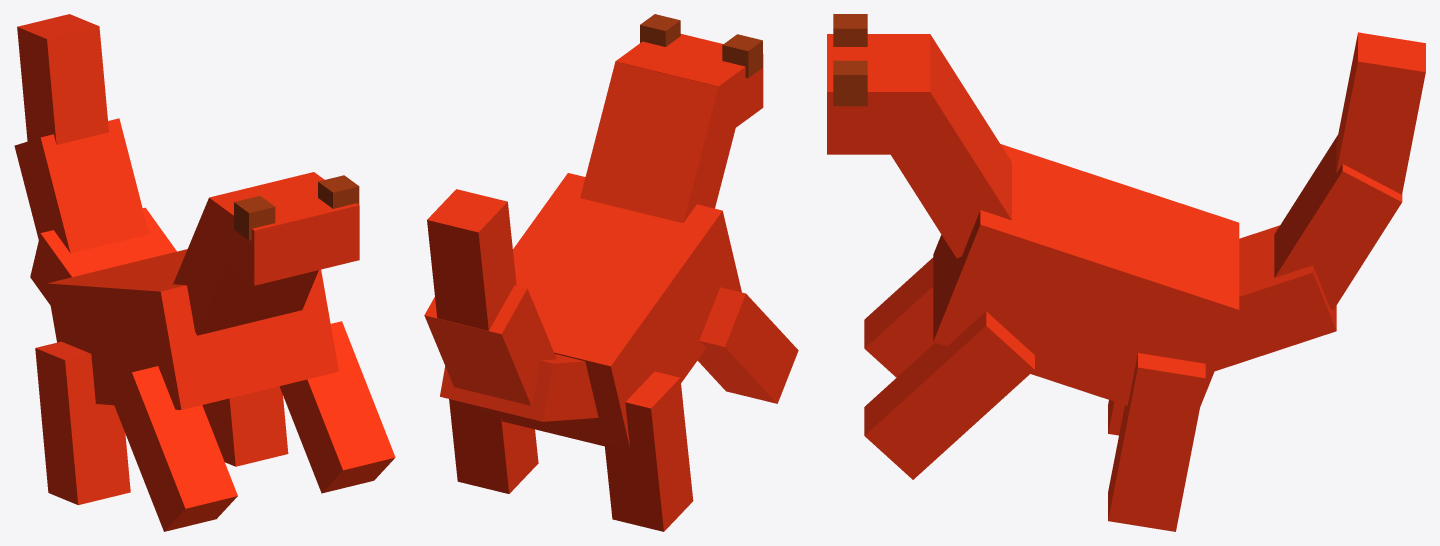
Rendered from FireLizard.fbx.
3 renders of one model, left to right at view 1: azimuth 30°, elevation 25°; view 2: azimuth 150°, elevation 25°; view 3: azimuth 270°, elevation 25°, orthographic. The views are drawn at different scales.
Visible parts, largest first — view 1: Cube.001, Cube.011, Cube.012; view 2: Cube.001, Cube.011, Cube.012; view 3: Cube.001, Cube.012, Cube.011.
Boxes of the visible parts, bbox=[...] form: Cube.001: bbox=[14, 14, 395, 531]; Cube.011: bbox=[234, 196, 275, 240]; Cube.012: bbox=[318, 175, 359, 208]; Cube.001: bbox=[424, 34, 798, 531]; Cube.011: bbox=[722, 34, 762, 77]; Cube.012: bbox=[640, 14, 680, 46]; Cube.001: bbox=[827, 32, 1425, 531]; Cube.012: bbox=[833, 60, 867, 106]; Cube.011: bbox=[833, 14, 867, 46].
Size of the model in its own units: 80 by 138 by 174.
